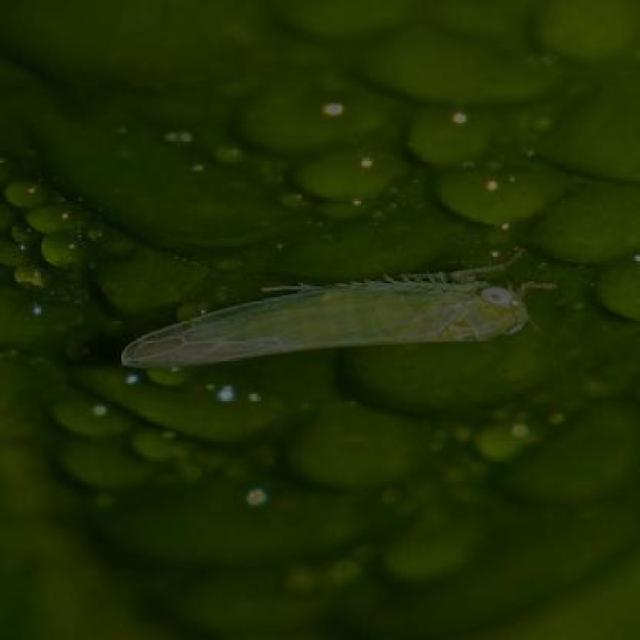green-leafhopper: (118, 265, 536, 373)
